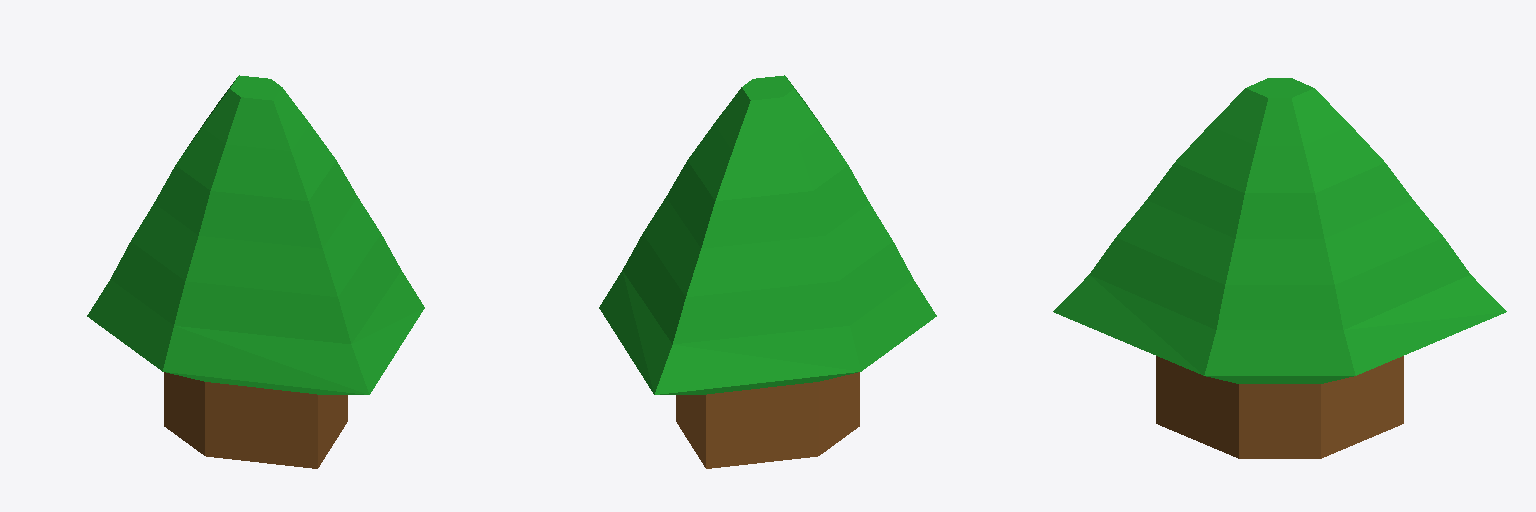
The model's file is Tree.obj.
3 renders of one model, left to right at view 1: azimuth 30°, elevation 25°; view 2: azimuth 150°, elevation 25°; view 3: azimuth 270°, elevation 25°, orthographic.
Visible parts, largest first — view 1: Tree; view 2: Tree; view 3: Tree.
Boxes of the visible parts, box(x1,y1,x2,y2) form: Tree: box(87, 75, 424, 468); Tree: box(599, 75, 936, 468); Tree: box(1053, 78, 1506, 458).
Bounding box in the file's own units: 3.68 × 4.5 × 5.52.